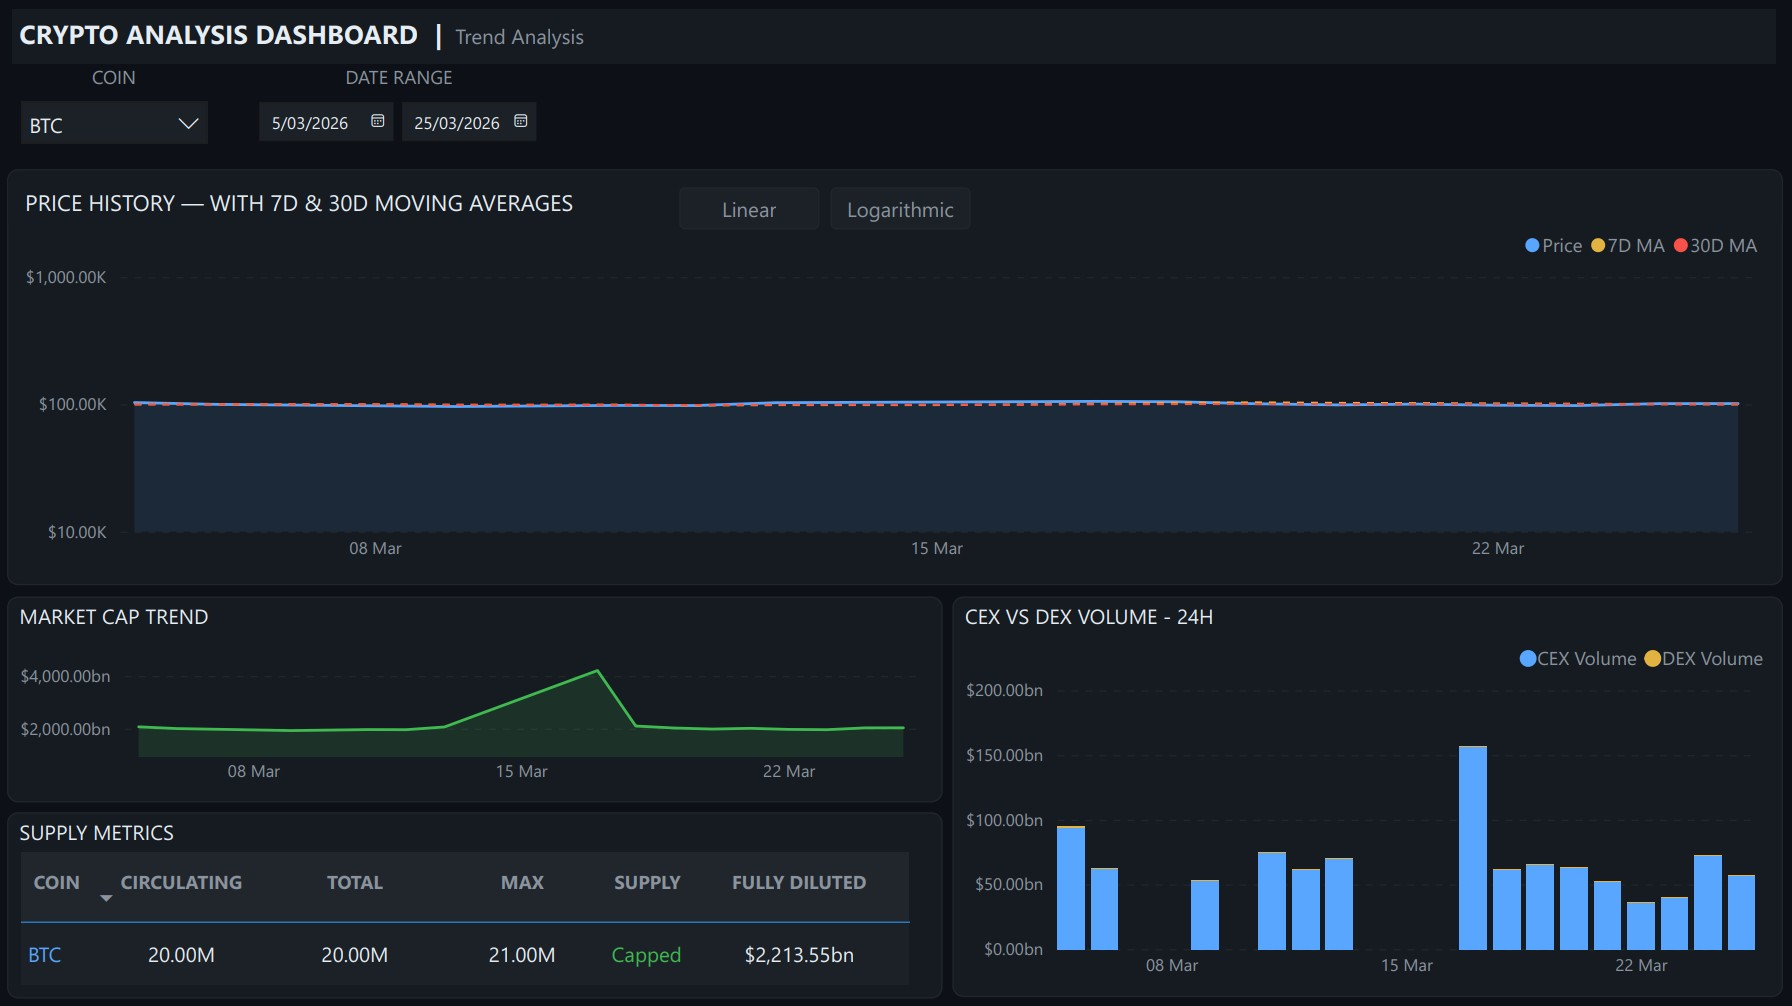

This screenshot's page, from the dashboard's own definition file:
{"tool":"powerbi","page":{"name":"Trend Analysis","canvas":[1280,720],"ordinal":2},"visuals":[{"type":"slicer","title":"COIN","fields":{"Values":["dim_coin.symbol"]},"box":[6,46,153,68],"z":0},{"type":"slicer","title":"DATE RANGE","fields":{"Values":["dim_date.Date"]},"box":[173,46,226,67],"z":1000},{"type":"lineChart","title":"PRICE HISTORY — WITH 7D & 30D MOVING AVERAGES","fields":{"Y":["_Measures.Latest Price","_Measures.MA Price 7D","_Measures.MA Price 30D"],"Category":["dim_date.Date"]},"box":[6,121,1268,297],"z":2000},{"type":"areaChart","title":"MARKET CAP TREND","fields":{"Y":["Sum(fact_coin_prices.aud_market_cap)"],"Category":["dim_date.Date"]},"box":[6,426,668,147],"z":4000},{"type":"columnChart","title":"CEX VS DEX VOLUME - 24H","fields":{"Category":["dim_date.Date"],"Y":["Sum(fact_coin_prices.aud_cex_volume_24h)","Sum(fact_coin_prices.aud_dex_volume_24h)"]},"box":[681,426,593,286],"z":5000},{"type":"tableEx","title":"SUPPLY METRICS","fields":{"Values":["dim_coin.symbol","Max(fact_coin_prices.circulating_supply)","Max(fact_coin_prices.total_supply)","Max(dim_coin.max_supply)","dim_coin.Infinite Supply Label","Max(fact_coin_prices.aud_fully_diluted_market_cap)"]},"box":[6,580,668,133],"z":6000},{"type":"actionButton","box":[593.9,134.3,100,29.2],"z":7000},{"type":"actionButton","box":[486.4,134.3,100,29.2],"z":8000},{"type":"textbox","box":[10,7,1259,39],"z":9000}]}

Visuals, with their boxes in screenshot pixels (x1, y1, x2, y2), scaled from the page's 1280x720 canvas onto the 1792x1006 screenshot:
"COIN" slicer: 8/64/223/159
"DATE RANGE" slicer: 242/64/559/158
"PRICE HISTORY — WITH 7D & 30D MOVING AVERAGES" lineChart: 8/169/1784/584
"MARKET CAP TREND" areaChart: 8/595/944/801
"CEX VS DEX VOLUME - 24H" columnChart: 953/595/1784/995
"SUPPLY METRICS" tableEx: 8/810/944/996
actionButton: 831/188/971/228
actionButton: 681/188/821/228
textbox: 14/10/1777/64
